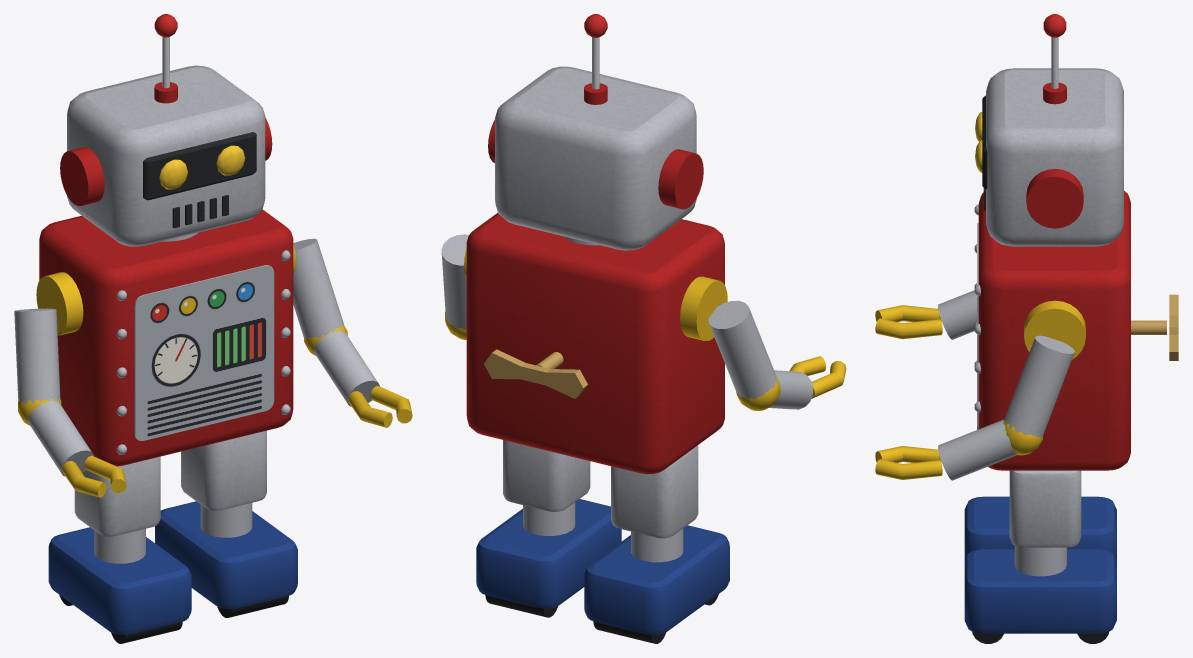
File: sentinela-bronze.glb
3 views of the same model, side by side, from view 1: azimuth 30°, elevation 25°; view 2: azimuth 150°, elevation 25°; view 3: azimuth 270°, elevation 25° (orthographic).
Visible parts, largest first — view 1: Robot body, Chest panel, Robot wheels; view 2: Robot body, Wind-up key, Robot wheels; view 3: Robot body, Wind-up key, Robot wheels.
Boxes of the visible parts, <box> form: Robot body: <box>14,14,412,634</box>; Chest panel: <box>134,265,274,440</box>; Robot wheels: <box>59,595,288,643</box>; Robot body: <box>441,14,846,634</box>; Wind-up key: <box>484,349,587,398</box>; Robot wheels: <box>485,594,718,643</box>; Robot body: <box>875,14,1130,633</box>; Wind-up key: <box>1131,294,1178,360</box>; Robot wheels: <box>972,631,1108,643</box>.
Bounding box in the file's own units: 0.1648 × 0.2729 × 0.1275.
11 materials, 11 textured.
